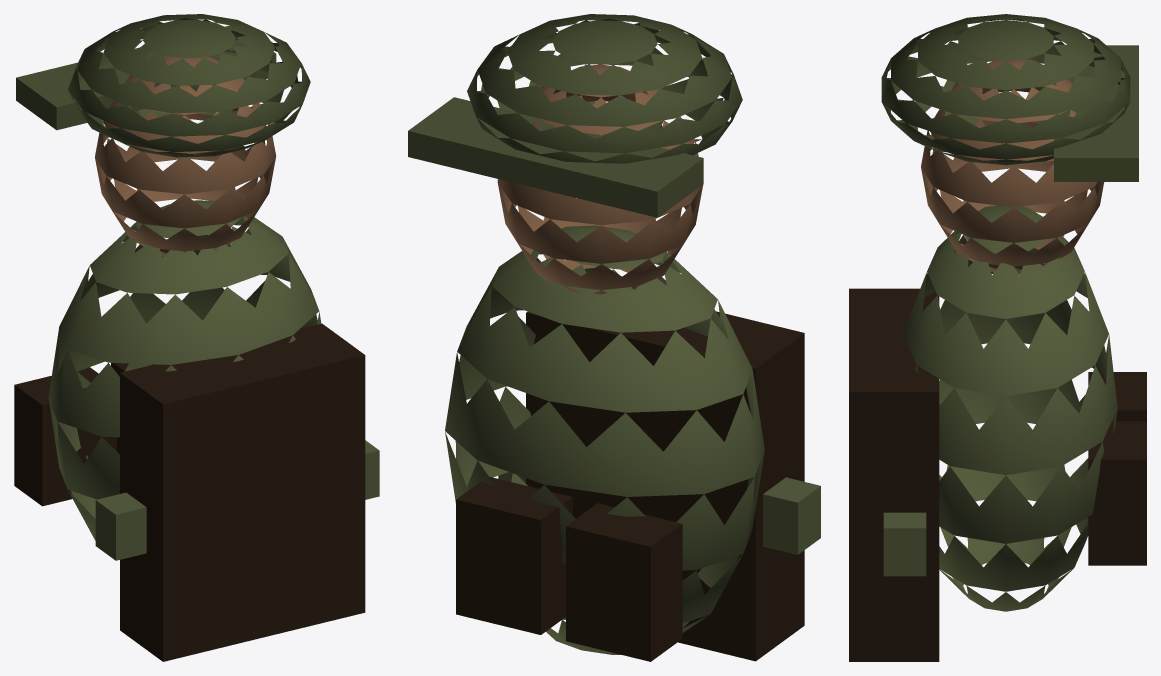
Rendered from allied-rifleman.obj.
The picture shows the model from 3 angles, left to right: view 1: azimuth 30°, elevation 25°; view 2: azimuth 150°, elevation 25°; view 3: azimuth 270°, elevation 25°; orthographic projection. The views are drawn at different scales.
Parts seen in each view (by area): view 1: part_3, part_0, part_2, part_1; view 2: part_0, part_3, part_2, part_1; view 3: part_0, part_3, part_2, part_1.
Boxes of the visible parts, box(x1,y1,x2,y2) form: part_3: box(14, 323, 365, 661); part_0: box(48, 200, 379, 560); part_2: box(16, 14, 310, 157); part_1: box(95, 56, 276, 256); part_0: box(445, 225, 820, 654); part_3: box(456, 311, 804, 661); part_2: box(408, 14, 742, 217); part_1: box(497, 64, 702, 294); part_0: box(883, 205, 1117, 611); part_3: box(849, 288, 1146, 661); part_2: box(881, 14, 1138, 181); part_1: box(921, 59, 1104, 274).
Size of the model in its own units: 0.6 by 1.19 by 0.56.
